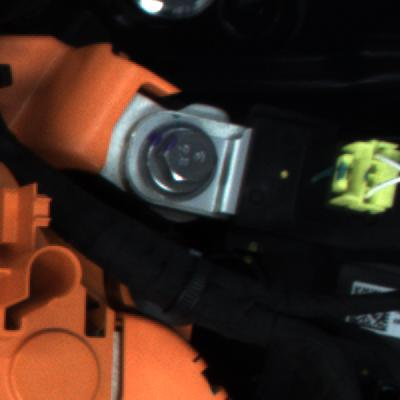nut_b: (132, 121, 224, 199)
